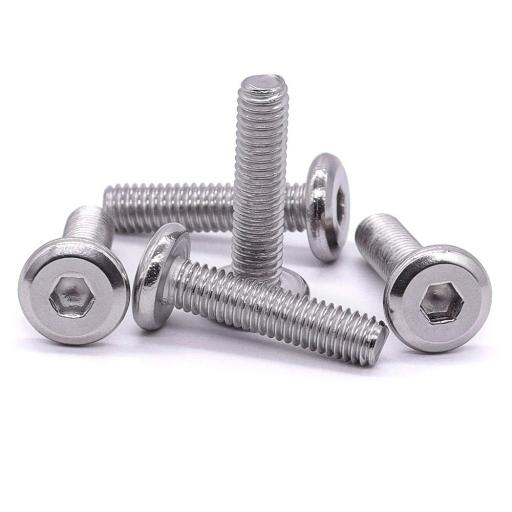Hex-Allen: (19, 237, 132, 347), (386, 246, 489, 355)
